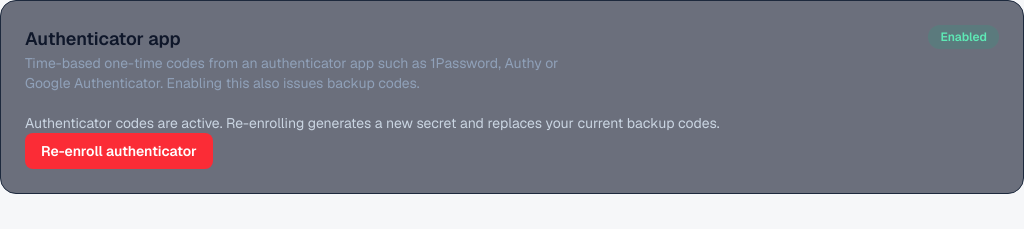
it: TotpEnrollmentCard › asks for confirmation before replacing an existing secret
Click the button "Re-enroll authenticator": x=119, y=151 [25,133,213,169]
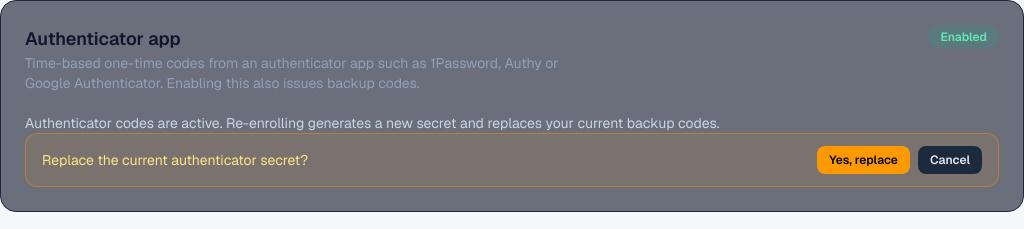
Check: the text "Replace the current authenticator secret?" is shown, box [42,151,308,169]
